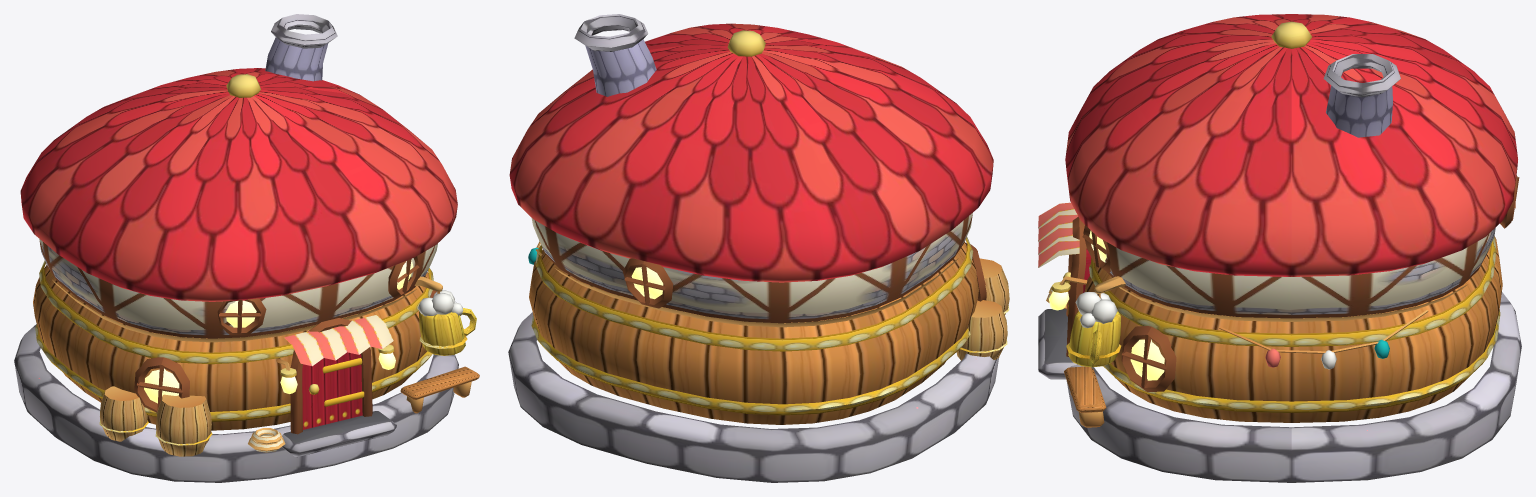
File: tavern.glb
3 views of the same model, side by side, from view 1: azimuth 30°, elevation 25°; view 2: azimuth 150°, elevation 25°; view 3: azimuth 270°, elevation 25° (orthographic). The views are drawn at different scales.
Parts seen in each view (by area): view 1: tavern; view 2: tavern; view 3: tavern.
Part boxes in pixels (left/top/right/bottom): tavern: left=14, top=14, right=479, bottom=482; tavern: left=508, top=14, right=1009, bottom=482; tavern: left=1038, top=14, right=1521, bottom=482.
Bounding box in the file's own units: 6.63 × 5.55 × 6.55.
4 materials, 4 textured.
